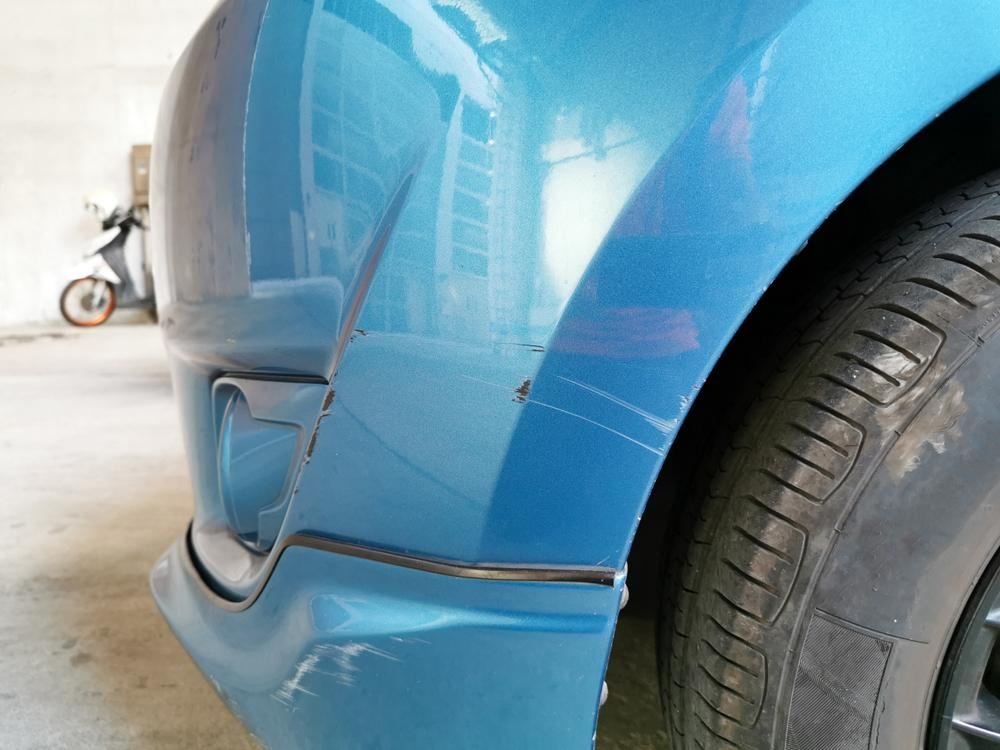scratch: (292, 324, 702, 489), (266, 634, 441, 715)
